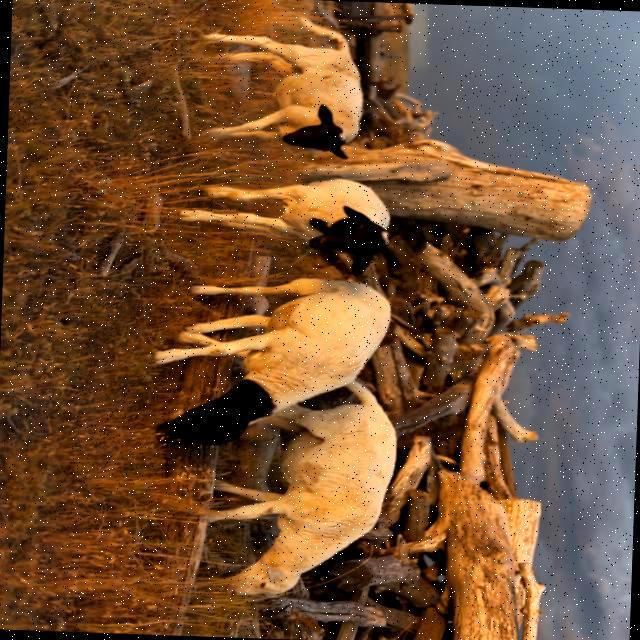sheep: (203, 386, 394, 593), (156, 278, 390, 446), (203, 22, 362, 157), (180, 179, 389, 276)
